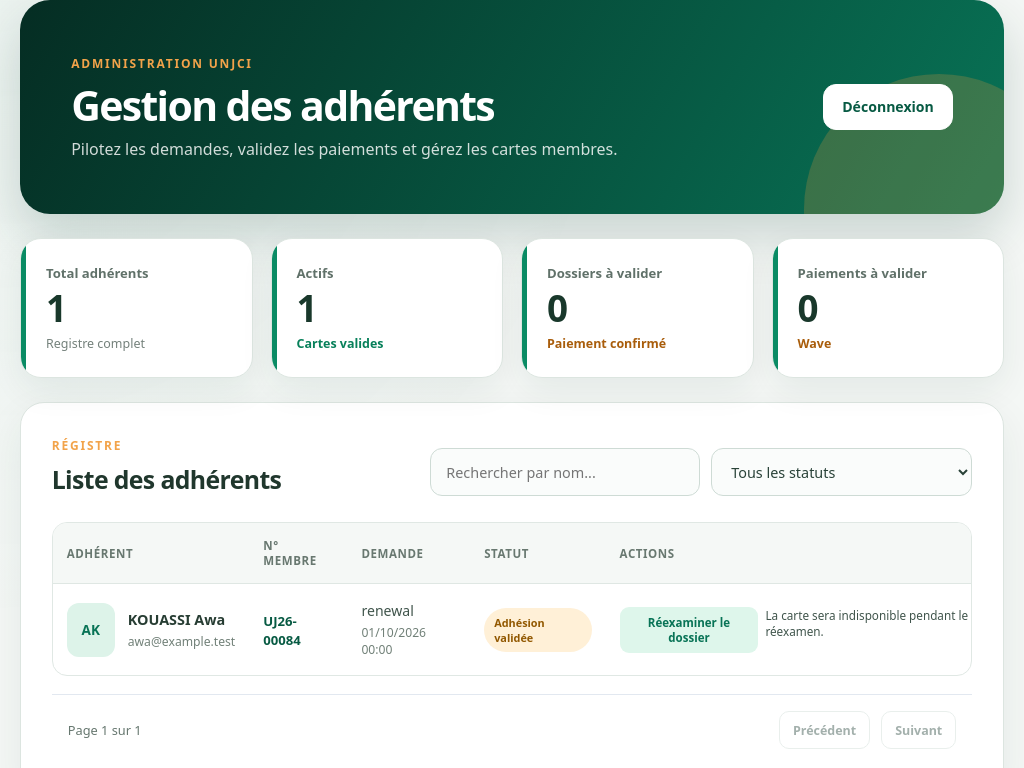
Scenario: AdminDashboard › offers a review action for an approved dossier and displays its approval actions afterward
This screenshot has width=1024, height=768.
What coordinates should you click on to do the following:
click the button "Réexaminer le dossier"
I would click on:
 (689, 630)
Its box is [620,607,758,653].
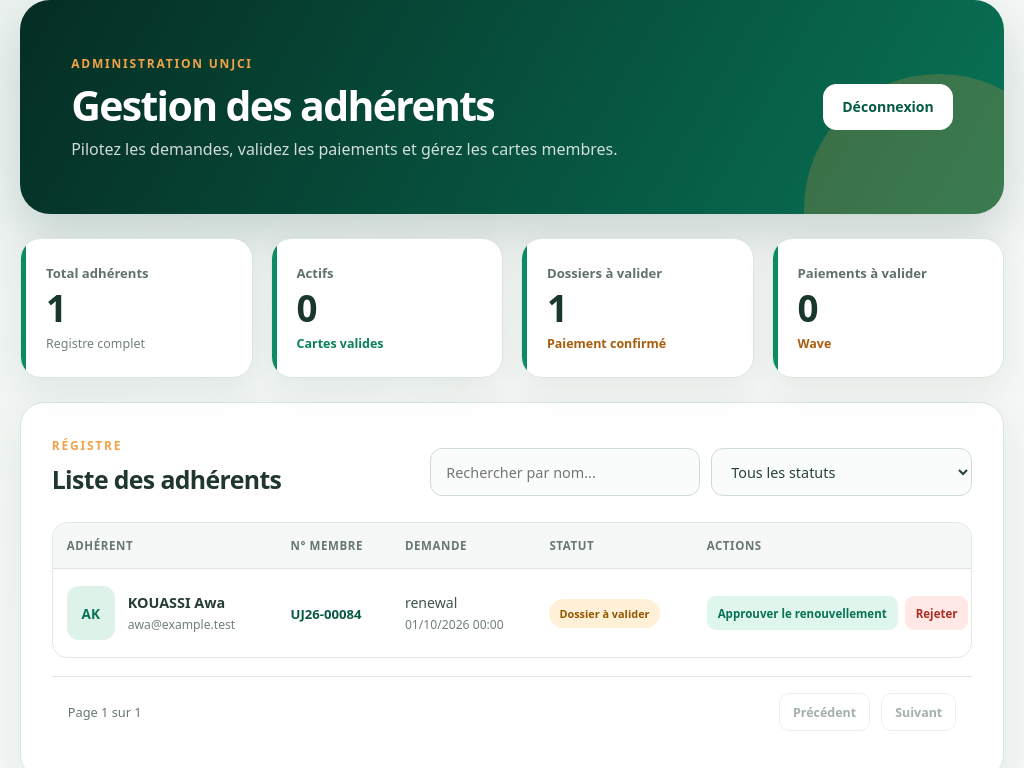
Expected: the text "Dossier à valider" is shown, [549,599,660,628]
Expected: the text "Approuver le renouvellement" is shown, [707,596,898,630]
Expected: the text "Réexaminer le dossier" is gone
